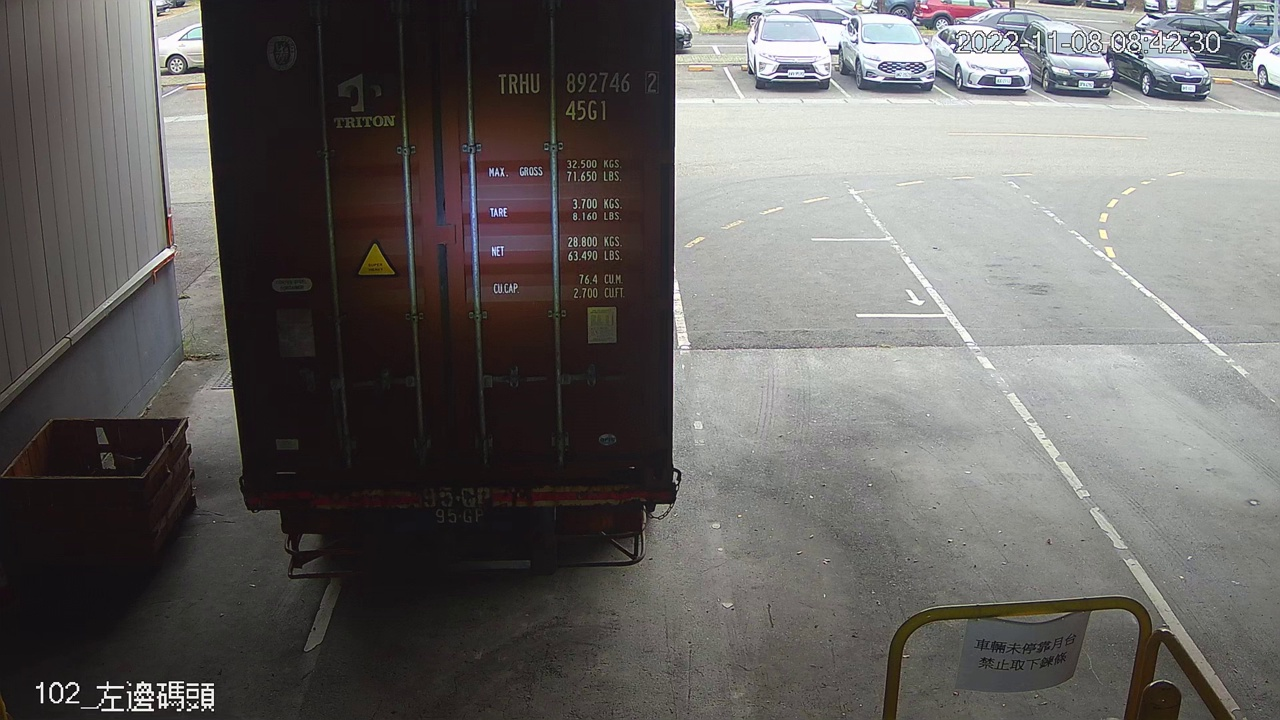container: (487, 60, 669, 127)
